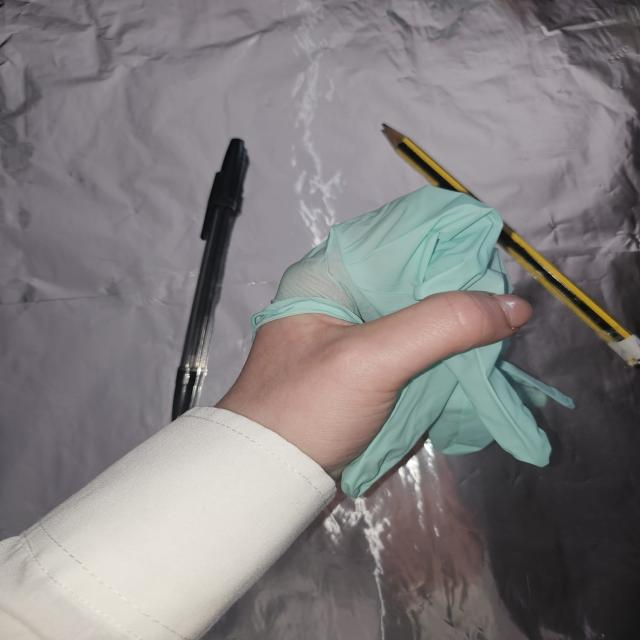glove_partial: (219, 183, 577, 500)
